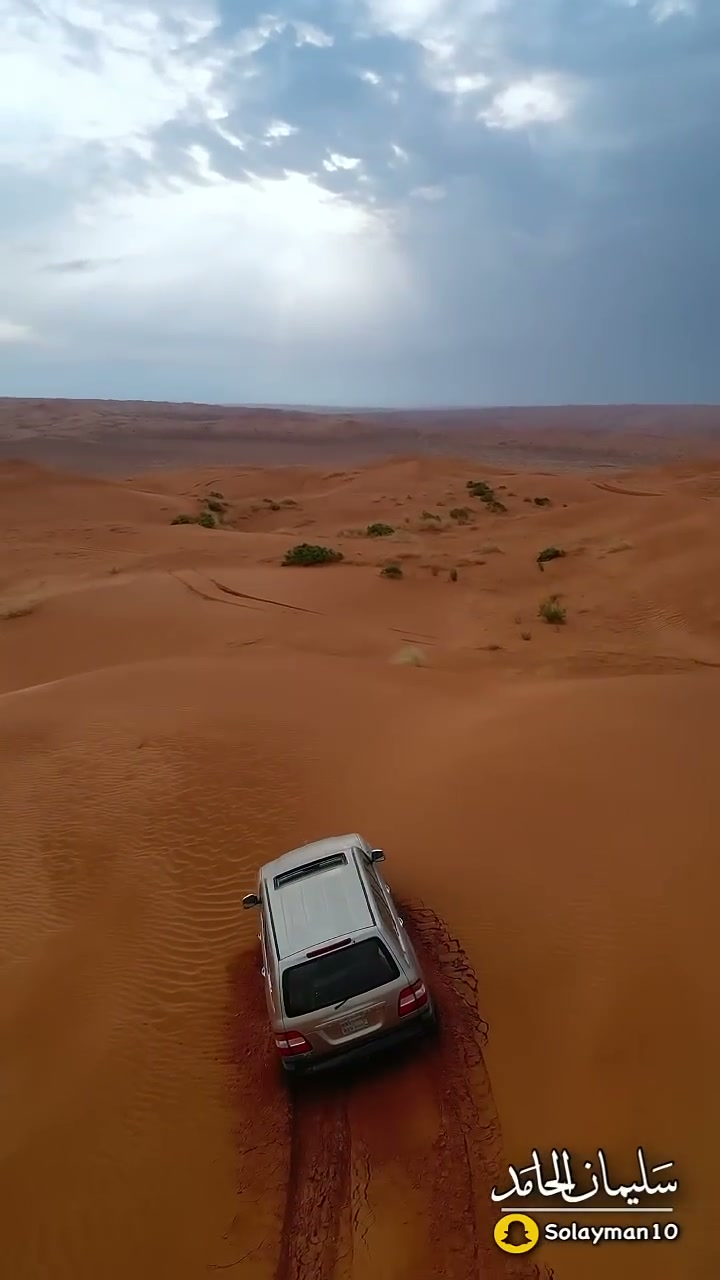vehicle_track: (403, 904, 549, 1279), (275, 1081, 351, 1279)
